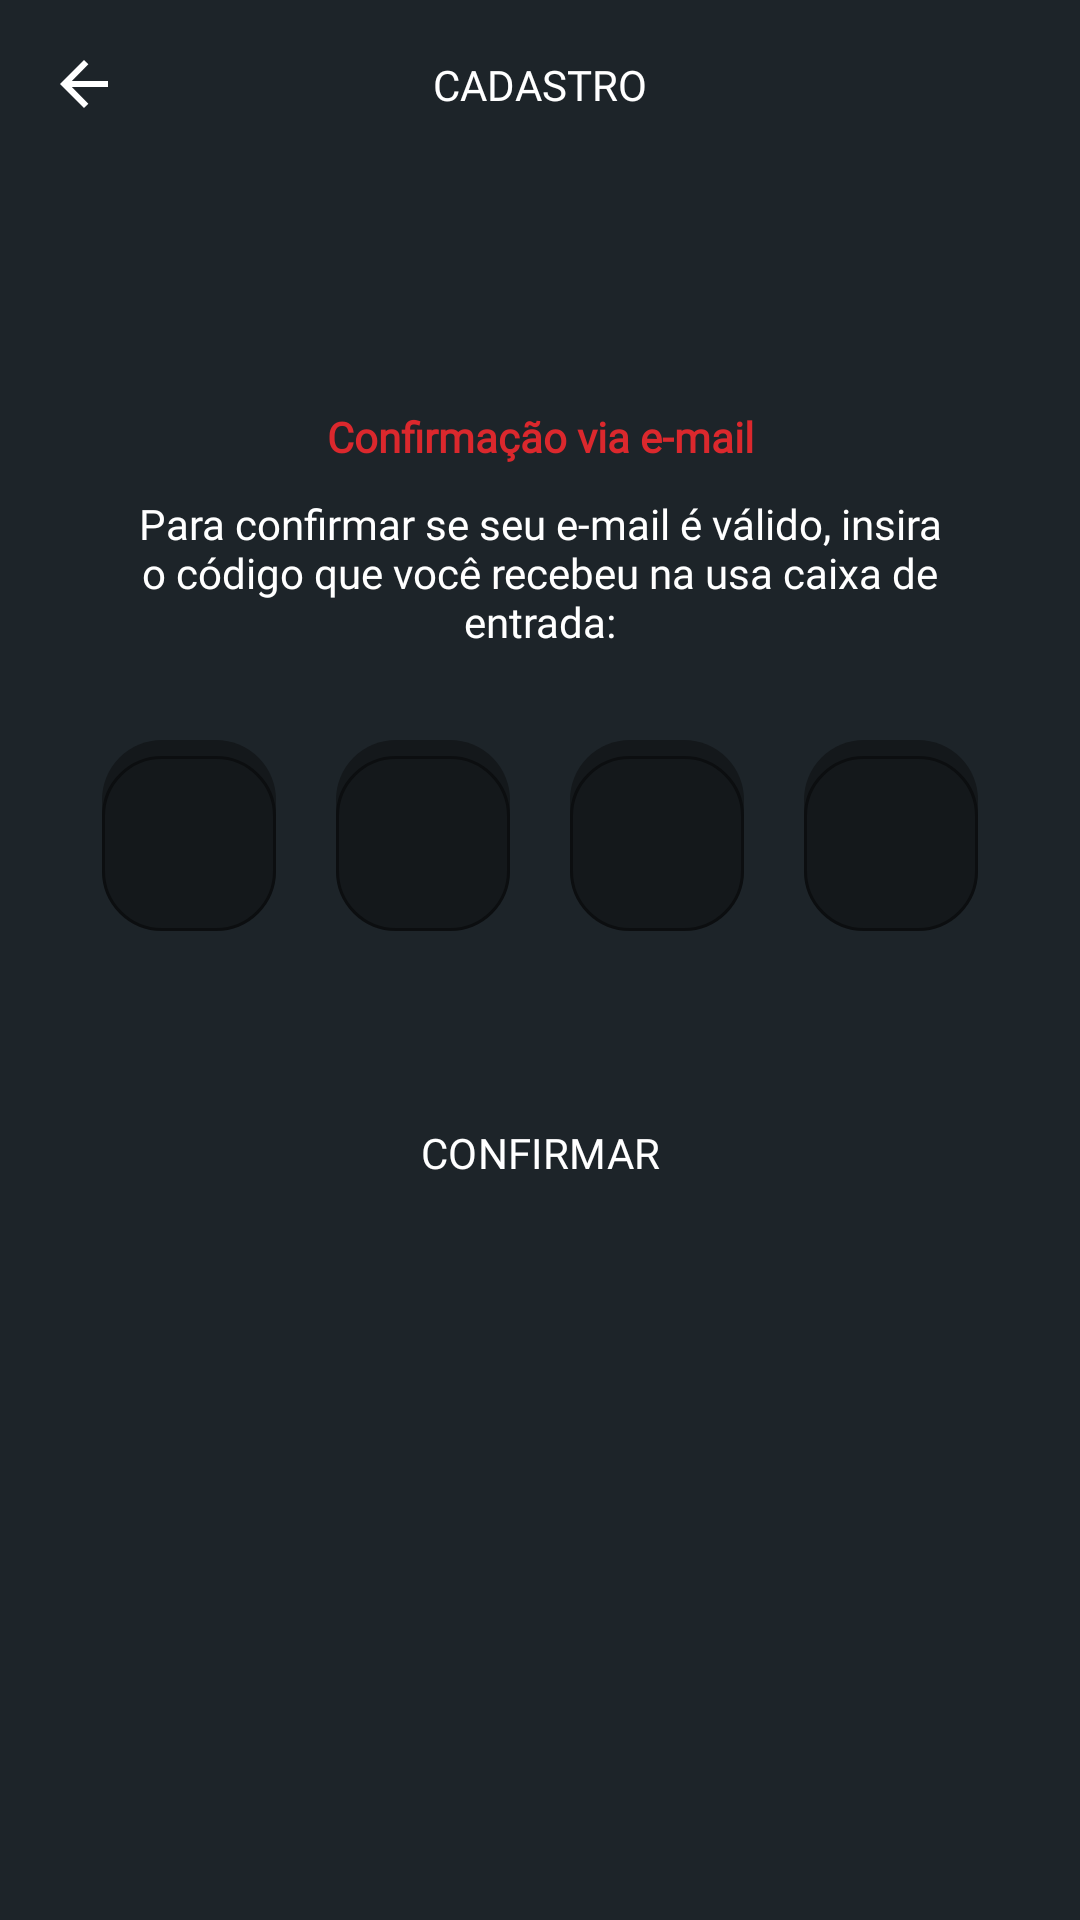

Screen size 1080w x 1920h. Icon name, then its box in pixels as {"left": x1, "top": y1, "right": x2, "bottom": y2}:
left arrow: {"left": 60, "top": 60, "right": 108, "bottom": 108}
